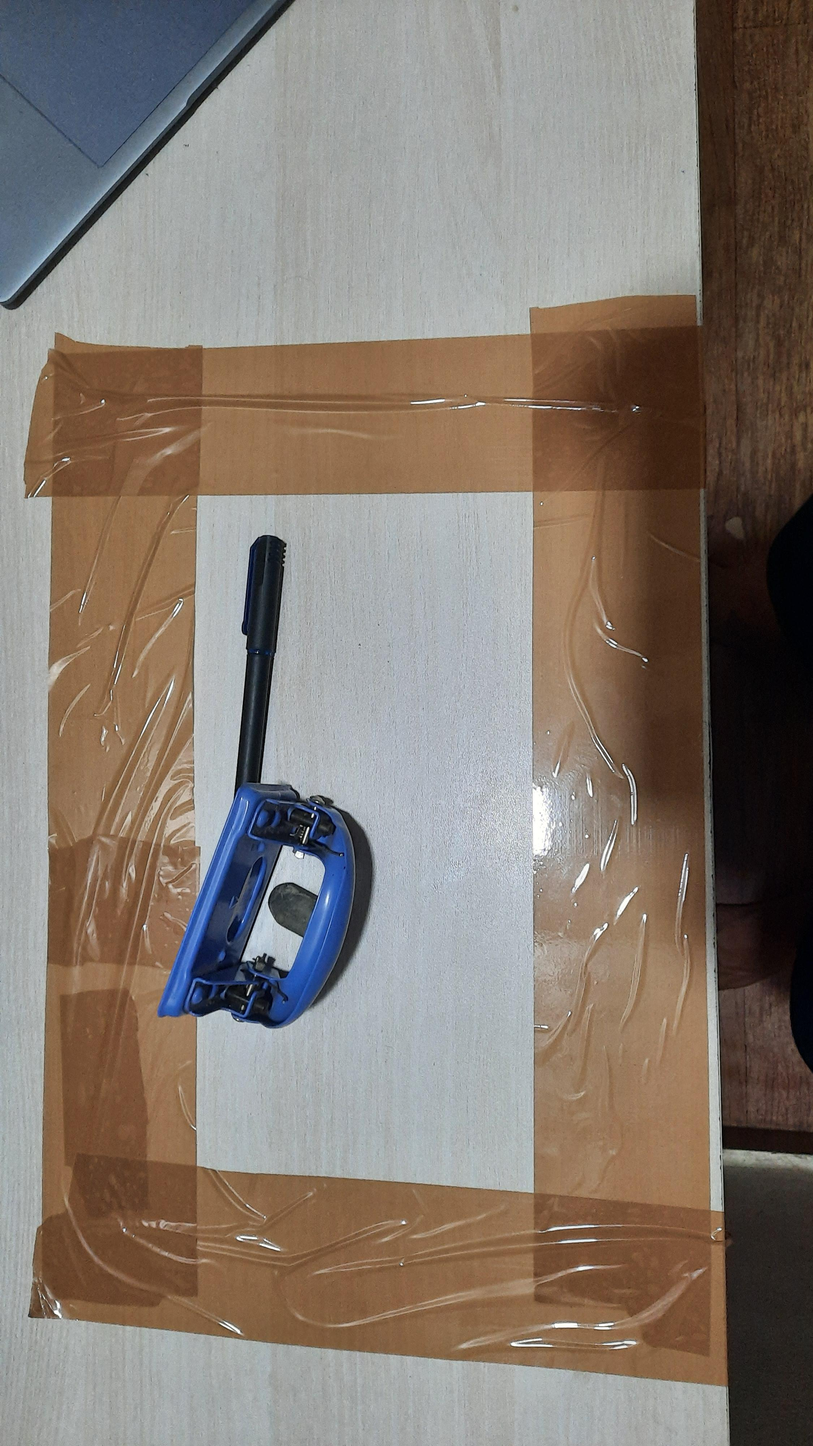Pen: (233, 535, 287, 802)
Punch: (157, 782, 358, 1030)
